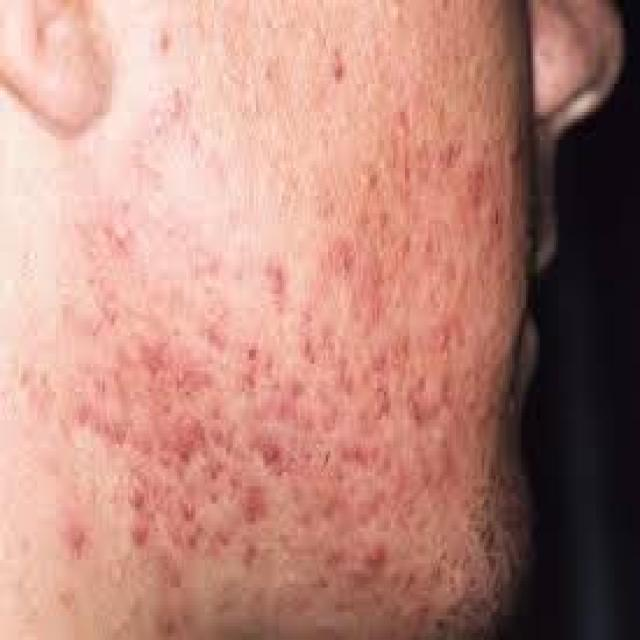Acne: (156, 412, 210, 468), (387, 104, 417, 199), (238, 335, 277, 397), (262, 248, 293, 315), (253, 429, 287, 482), (99, 212, 135, 260), (176, 357, 213, 398), (139, 333, 171, 380), (434, 134, 465, 177), (65, 516, 90, 564), (352, 435, 381, 474), (333, 233, 355, 283), (428, 320, 454, 362), (124, 479, 149, 518), (471, 157, 487, 217), (328, 49, 350, 90), (366, 536, 386, 576), (127, 518, 151, 550), (391, 332, 410, 372), (178, 493, 198, 528), (439, 375, 456, 414), (275, 394, 296, 424), (242, 499, 258, 532)
